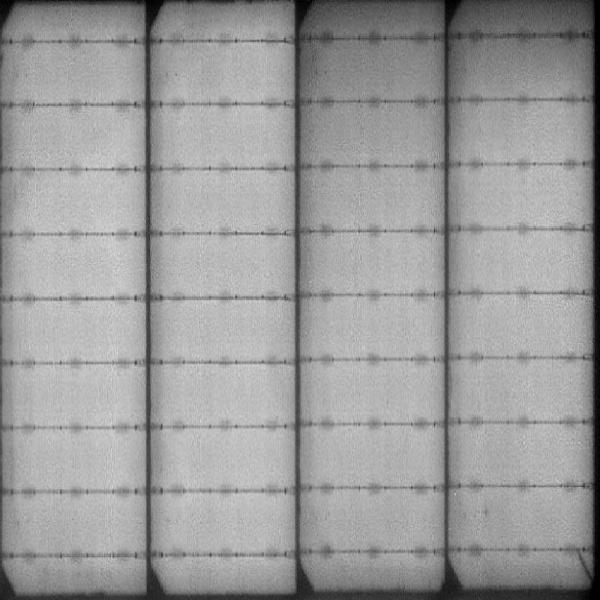scratch: (575, 547, 595, 587)
